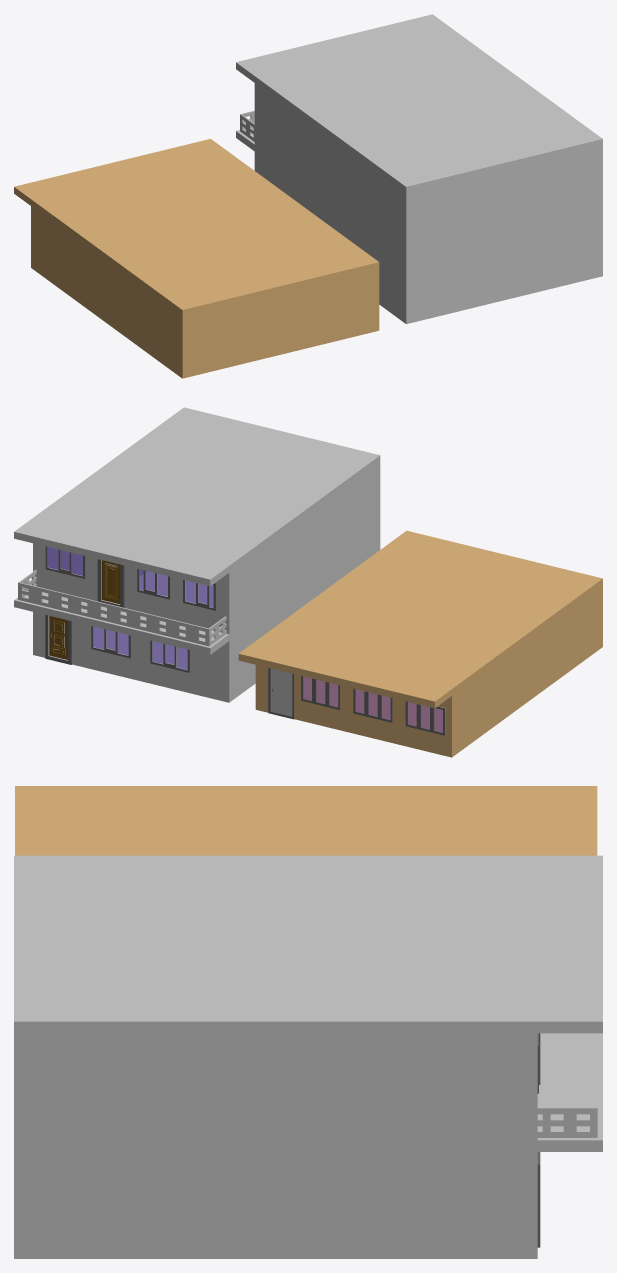
Rendered from casas.fbx.
3 renders of one model, top to bottom at view 1: azimuth 30°, elevation 25°; view 2: azimuth 150°, elevation 25°; view 3: azimuth 270°, elevation 25°, orthographic. The views are drawn at different scales.
Visible parts, largest first — view 1: Cubo, Cubo_1; view 2: Cubo, Cubo_1; view 3: Cubo, Cubo_1.
Part boxes in pixels (x1,y1,x2,y2): Cubo: (236, 14, 602, 324); Cubo_1: (14, 138, 379, 378); Cubo: (14, 407, 380, 702); Cubo_1: (238, 530, 602, 757); Cubo: (14, 855, 602, 1258); Cubo_1: (15, 786, 597, 855).
Size of the model in its own units: 641 by 200 by 450.
